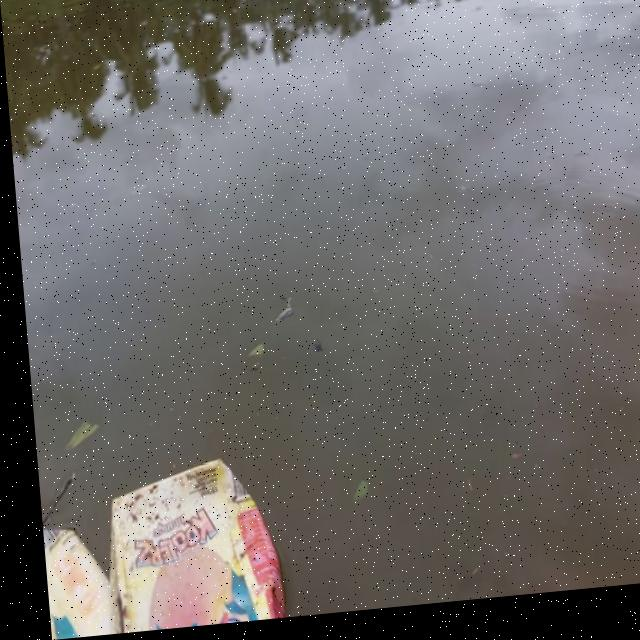paper: (31, 458, 288, 640)
